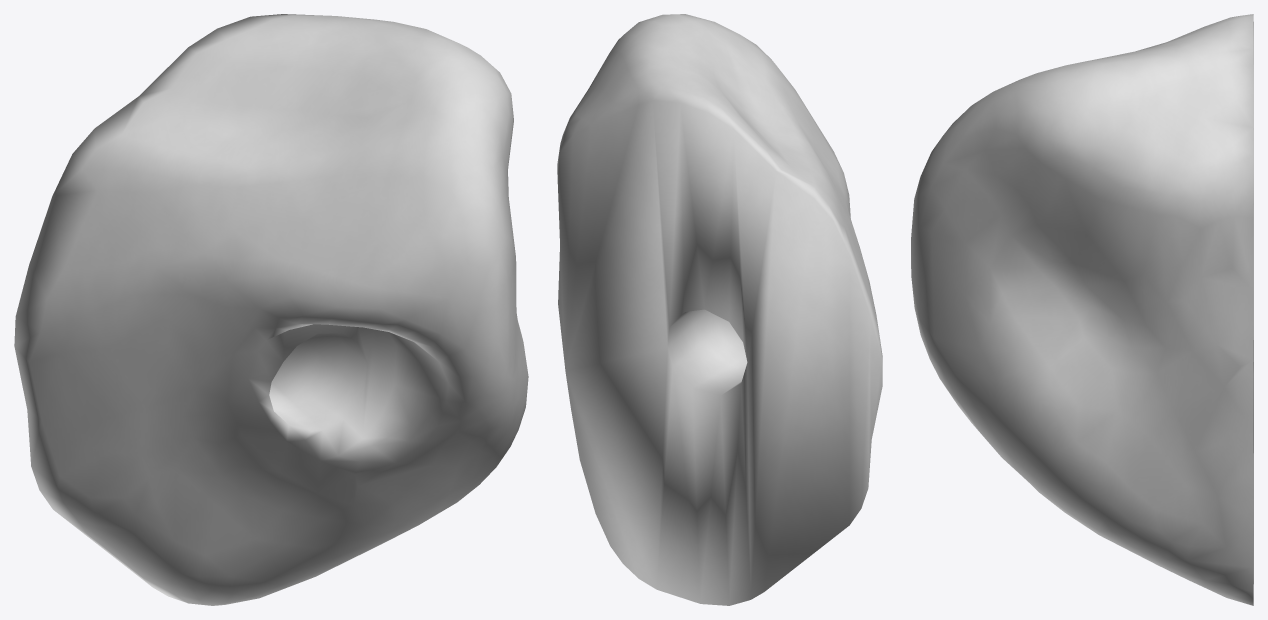
The model's file is Hold_7.glb.
3 renders of one model, left to right at view 1: azimuth 30°, elevation 25°; view 2: azimuth 150°, elevation 25°; view 3: azimuth 270°, elevation 25°, orthographic. The views are drawn at different scales.
Visible parts, largest first — view 1: bh_5x5_41; view 2: bh_5x5_41; view 3: bh_5x5_41.
Part boxes in pixels (box(x1,y1,x2,y2)): bh_5x5_41: box(14, 14, 528, 605); bh_5x5_41: box(557, 14, 882, 605); bh_5x5_41: box(911, 14, 1253, 605).
Size of the model in its own units: 0.16 by 0.2222 by 0.1198.
1 material, 1 textured.
